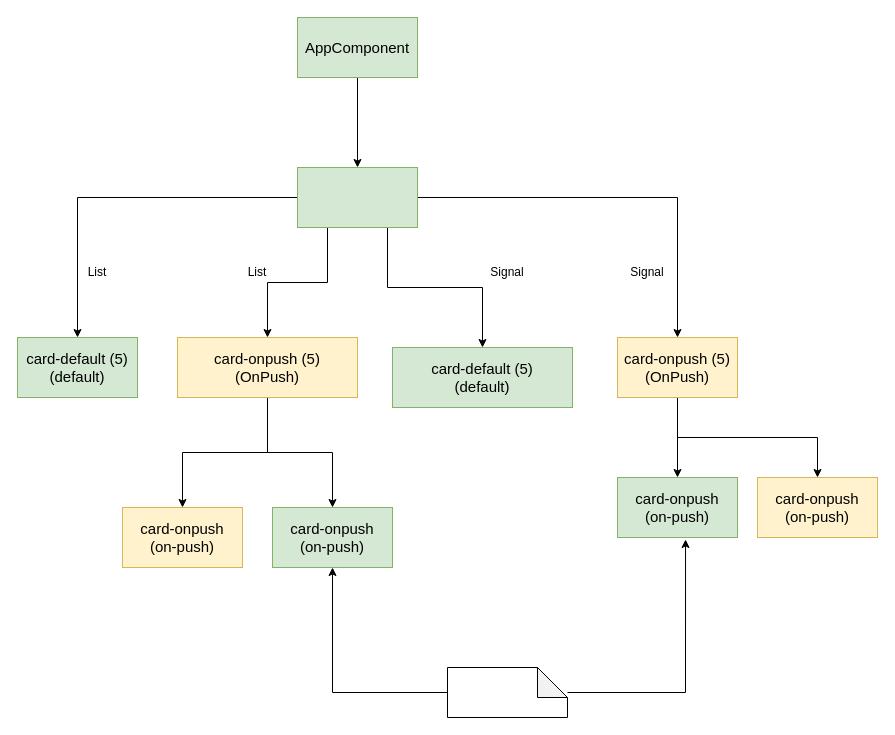
Image size: 895x735. Some labels were removed from this diagram. The centre of each missing label's shape, as x and y in pixels:
"Event" belongs at point 507,692.
"second-lab (Default)" belongs at point 357,197.
